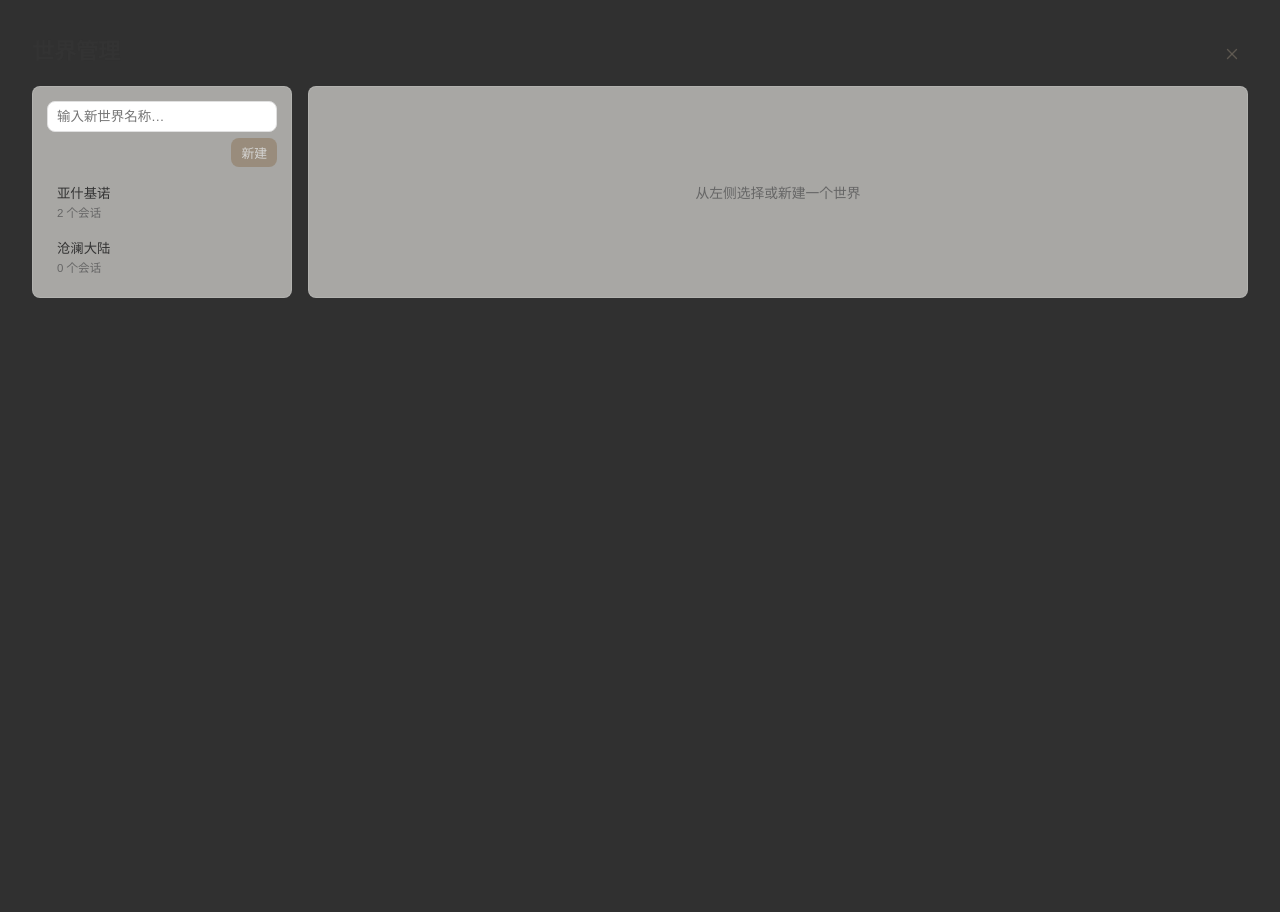
Test: WorldManagerSection › 选中世界后拉取详情并渲染地图/出场角色/文档库摘要
Click the button with class "wm-list-item" showing "亚什基诺 2 个会话": [162, 202] box [47,175,277,228]
(page scrolled)
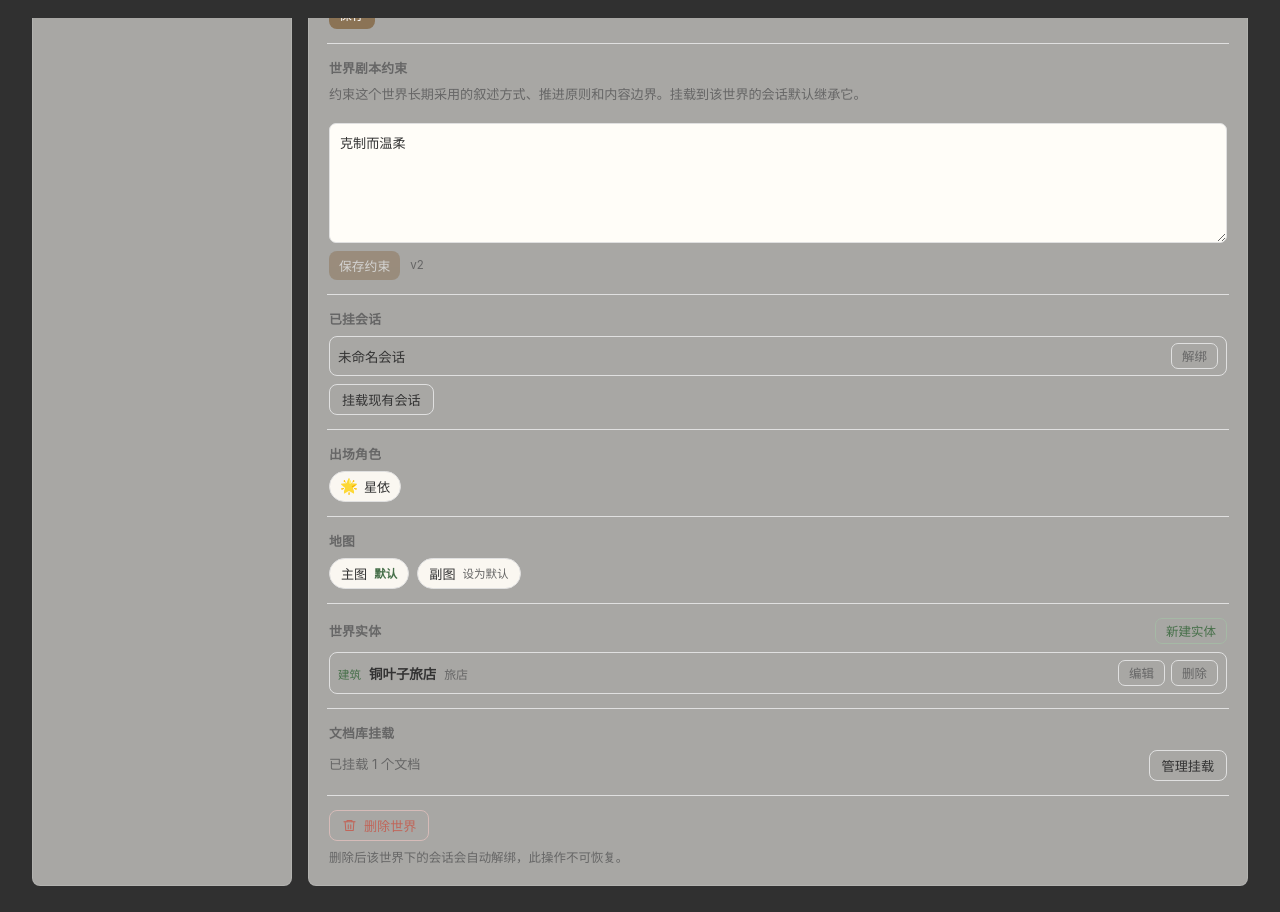
Check: the element with class "wm-map-chips" shows "主图", box [341,566,367,582]
Check: the text "星依" is shown, box [364,479,390,495]
Check: the text with class "wm-doclinks-summary" shows "1", box [329,756,420,772]
